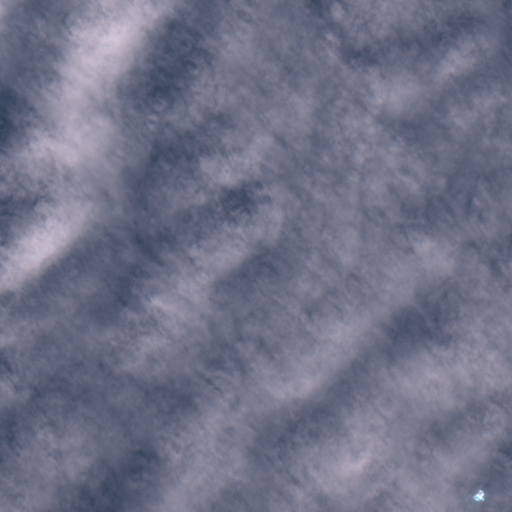Iceberg: (473, 490, 483, 500)
